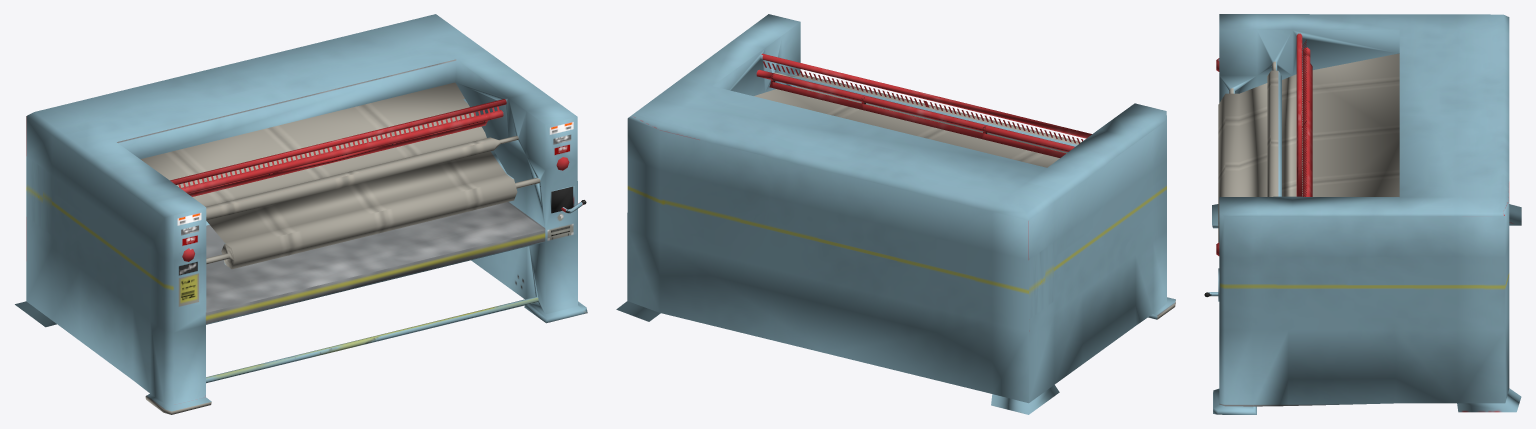
The model's file is UniformPress.obj.
The picture shows the model from 3 angles, left to right: view 1: azimuth 30°, elevation 25°; view 2: azimuth 150°, elevation 25°; view 3: azimuth 270°, elevation 25°; orthographic projection. The views are drawn at different scales.
Parts seen in each view (by area): view 1: UniformPress.obj; view 2: UniformPress.obj; view 3: UniformPress.obj.
Boxes of the visible parts, box(x1,y1,x2,y2) form: UniformPress.obj: box(15, 14, 587, 414); UniformPress.obj: box(616, 14, 1175, 414); UniformPress.obj: box(1204, 14, 1521, 414).
Size of the model in its own units: 7.35 by 3.26 by 4.73.
